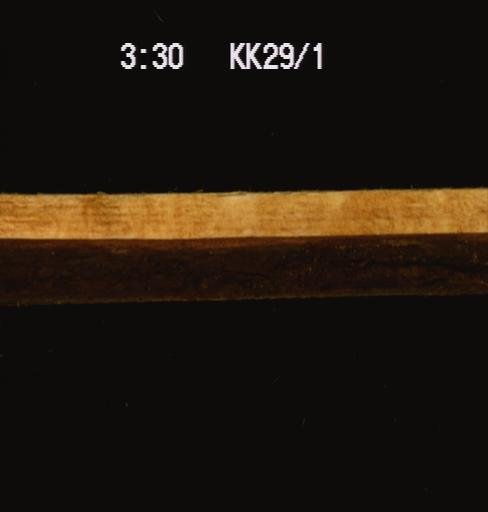wave: (0, 229, 487, 300)
